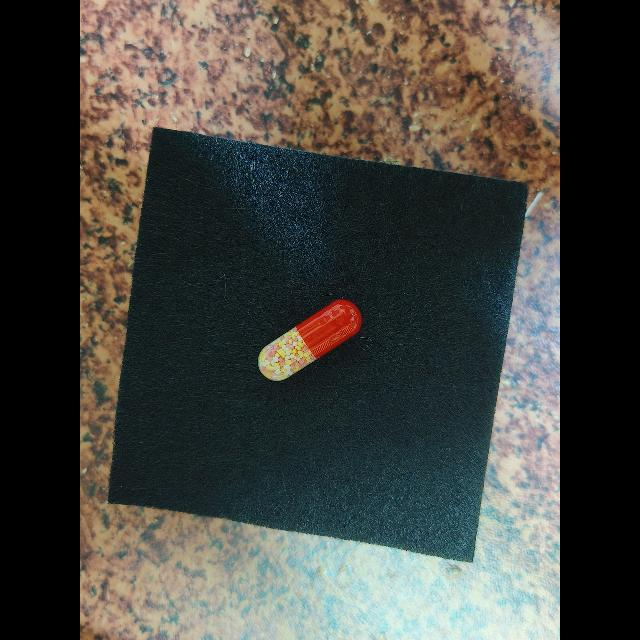Intact Capsule: (258, 299, 362, 381)
